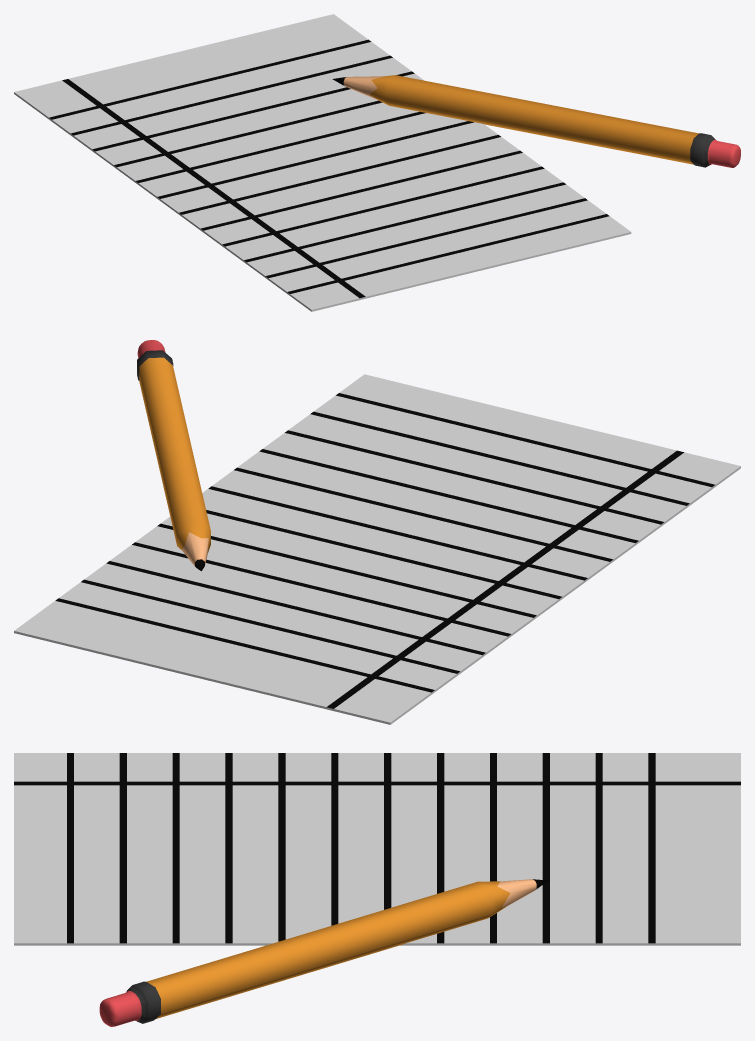
File: bucket.glb
The picture shows the model from 3 angles, top to bottom: view 1: azimuth 30°, elevation 25°; view 2: azimuth 150°, elevation 25°; view 3: azimuth 270°, elevation 25°; orthographic projection. The views are drawn at different scales.
Parts seen in each view (by area): view 1: Object_7, Object_8, Object_2, Object_6, Object_5, Object_4; view 2: Object_7, Object_8, Object_2; view 3: Object_7, Object_8, Object_2, Object_6, Object_5, Object_4.
Boxes of the visible parts, box(x1,y1,x2,y2) form: Object_7: box(14, 14, 631, 311); Object_8: box(49, 39, 609, 298); Object_2: box(369, 75, 698, 164); Object_6: box(707, 139, 740, 167); Object_5: box(690, 133, 715, 167); Object_4: box(343, 76, 383, 100); Object_7: box(14, 374, 740, 724); Object_8: box(55, 393, 714, 708); Object_2: box(139, 357, 210, 552); Object_7: box(14, 753, 740, 945); Object_8: box(14, 753, 740, 943); Object_2: box(146, 881, 510, 1018); Object_6: box(99, 991, 141, 1026); Object_5: box(126, 981, 160, 1023); Object_4: box(497, 879, 536, 907).
Size of the model in its own units: 37.68 by 2.14 by 41.33.
